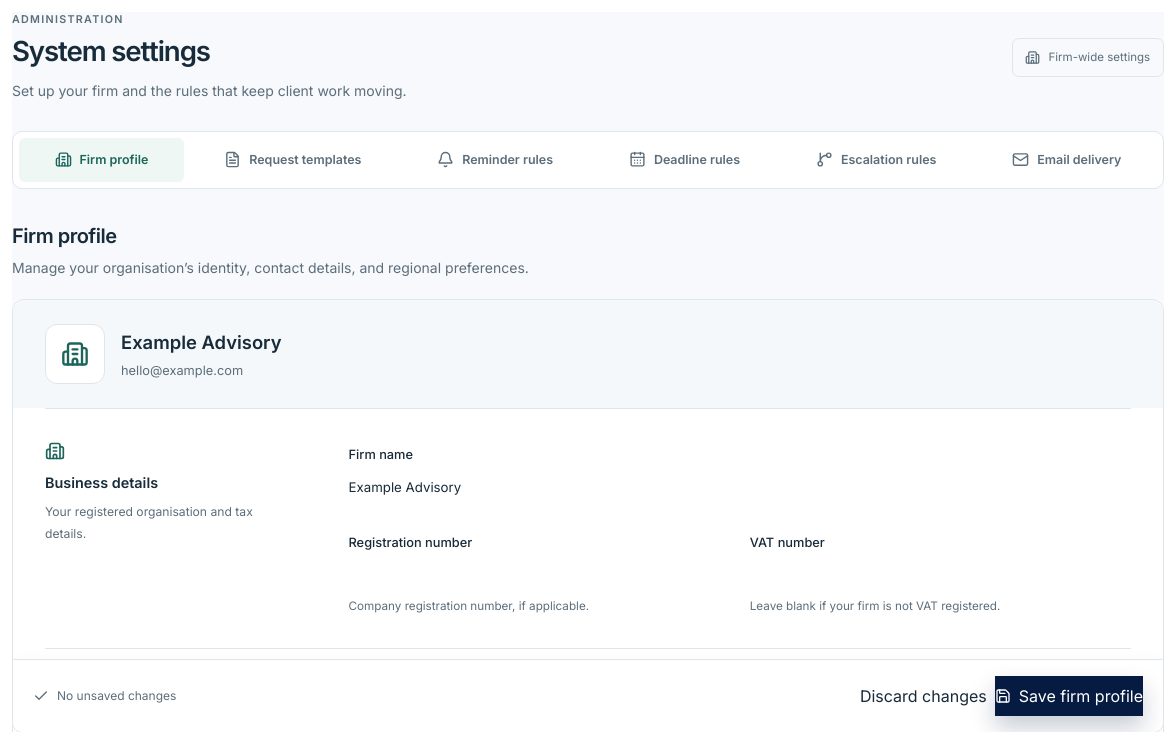
Scenario: system settings › preserves firm drafts across sections and existing profile metadata on save
Step 1. Replace the text in the field labelled "Firm name" with "Updated Advisory" → [740, 487], box [348,465,1131,509]
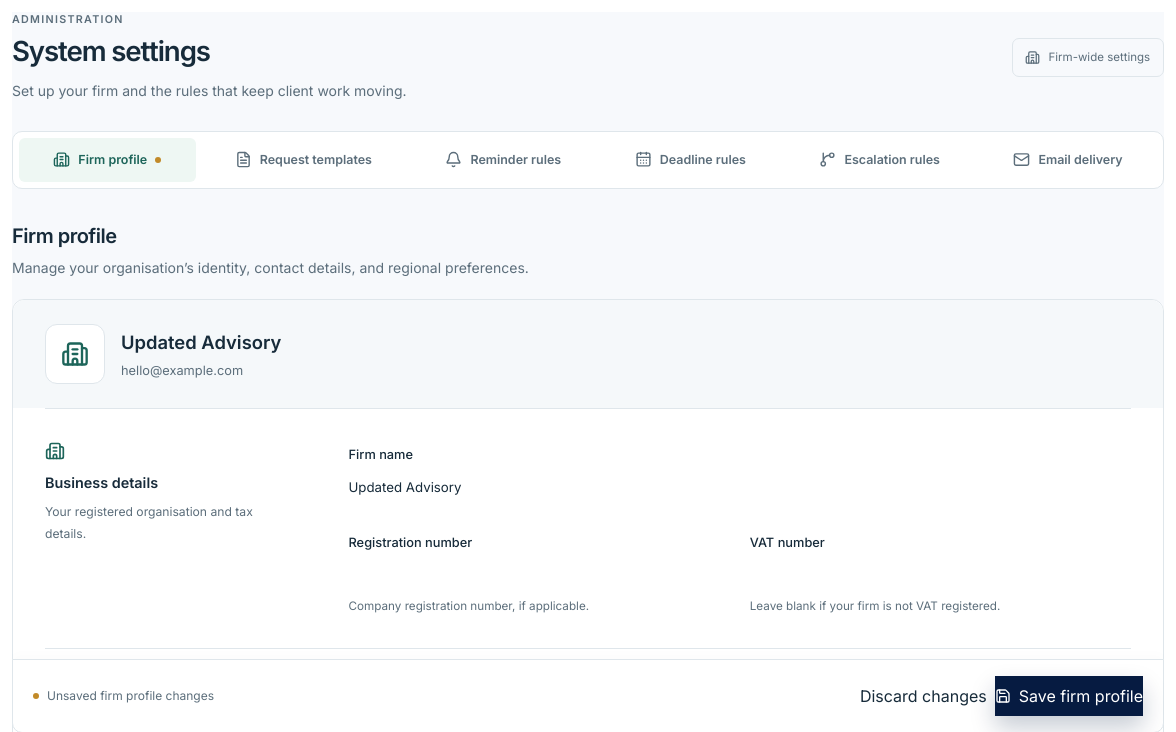
Step 2. Click the button "Request templates" → [303, 160], box [200,138,407,182]
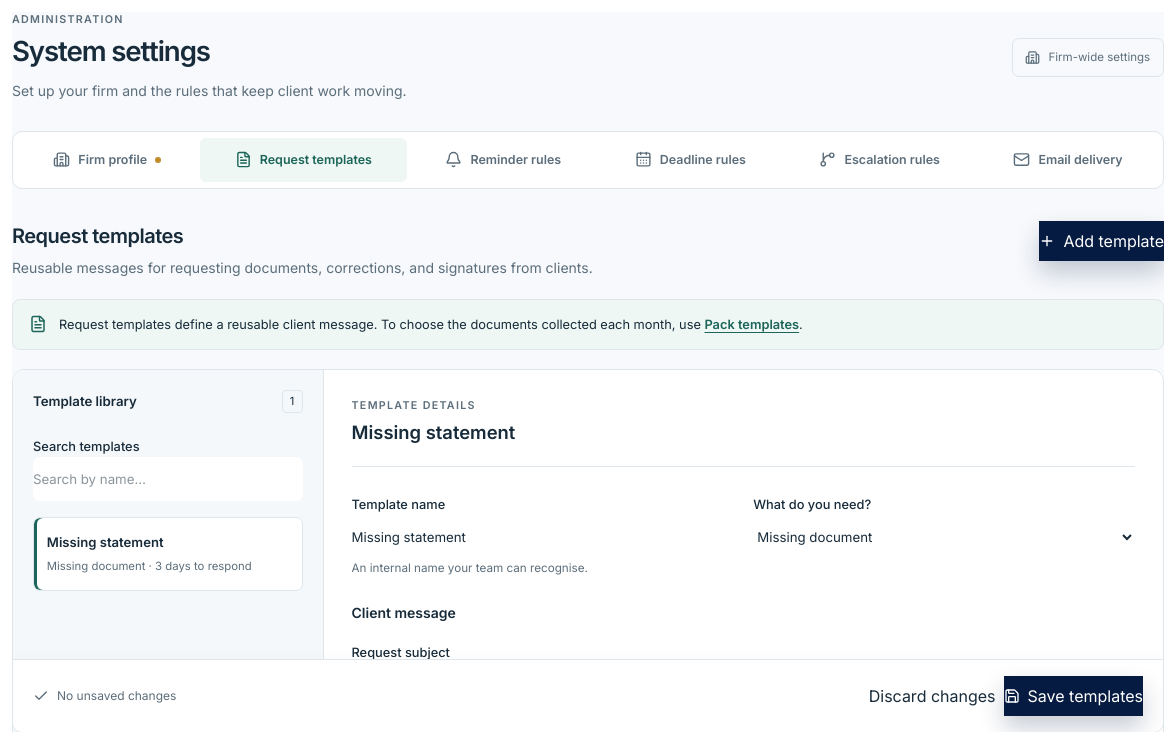
Step 3. Click the button "Firm profile" → [107, 160], box [19,138,196,182]
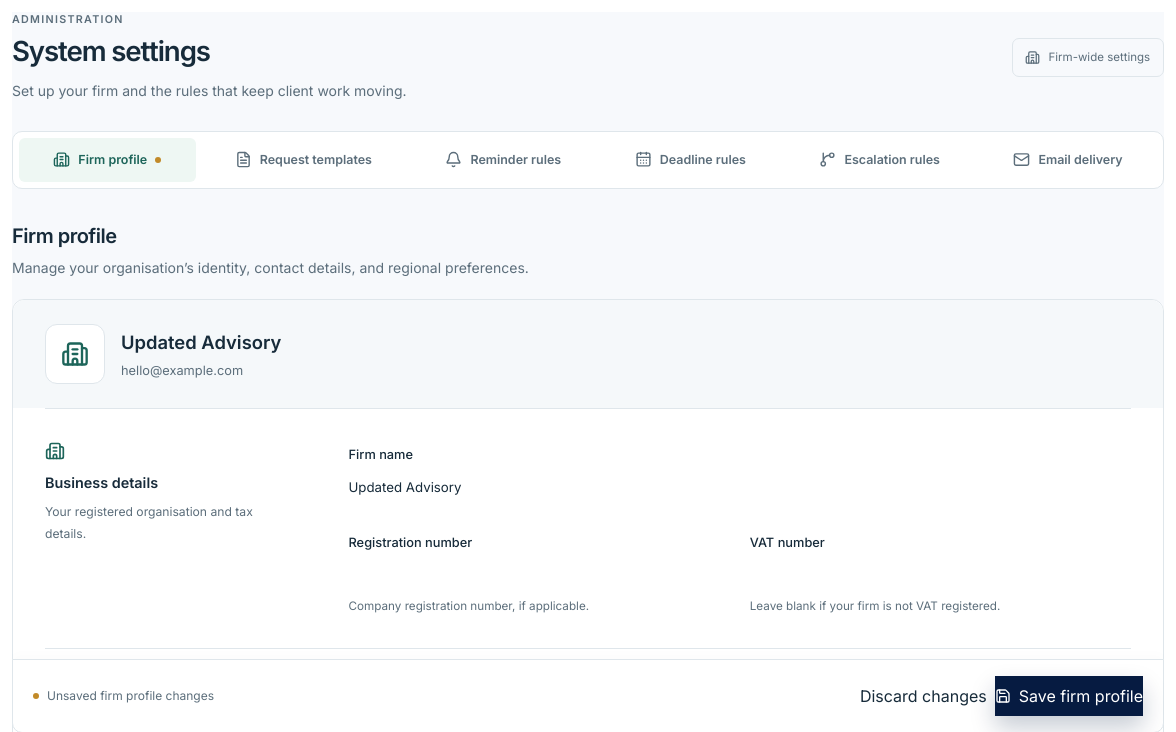
Step 4. Click the button "Save firm profile" → [1069, 696], box [995,676,1143,716]
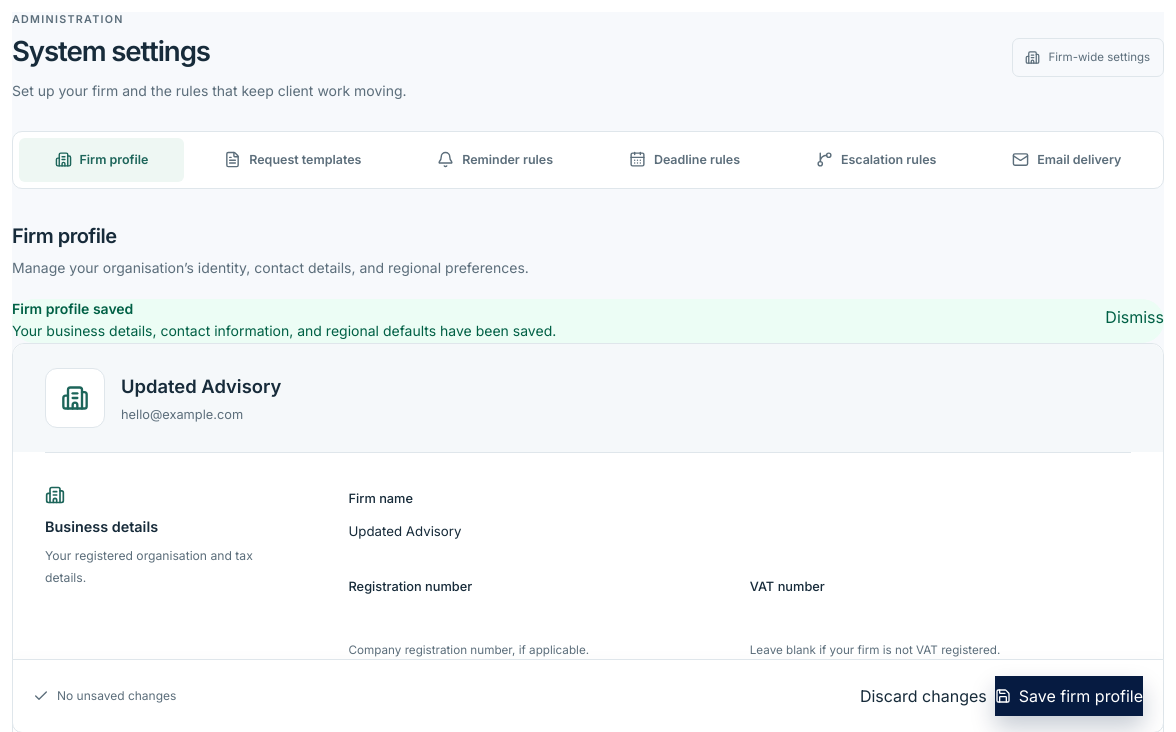
Check: the text "Firm profile saved" is shown, box [12,300,133,317]
